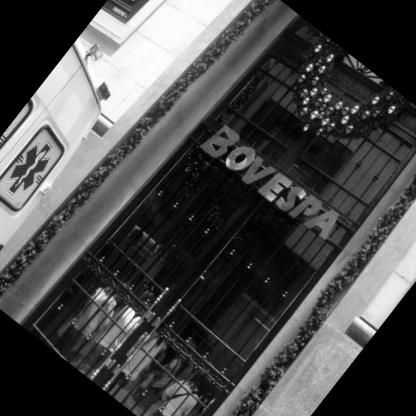ambulance: (1, 22, 156, 295)
